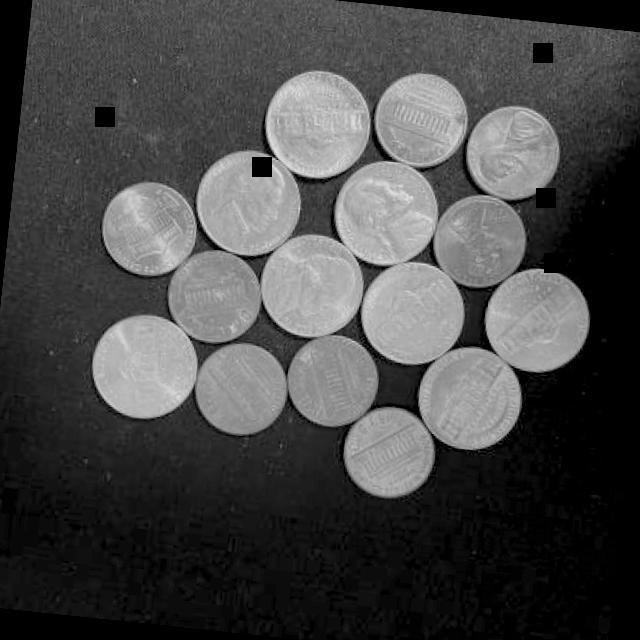Nickel: (256, 62, 374, 186), (187, 144, 306, 263), (326, 156, 445, 275), (476, 263, 594, 378), (410, 343, 525, 459), (83, 310, 201, 423), (251, 230, 369, 342), (353, 258, 468, 372)
Penny: (278, 330, 384, 434), (458, 100, 564, 204), (188, 338, 292, 441), (368, 68, 470, 172), (161, 246, 264, 346), (96, 178, 196, 280), (338, 403, 438, 504), (429, 192, 529, 292)
